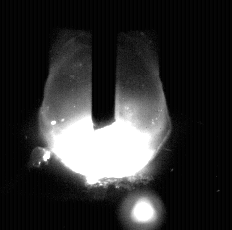arame: (93, 0, 117, 130)
poca: (39, 0, 171, 230)
